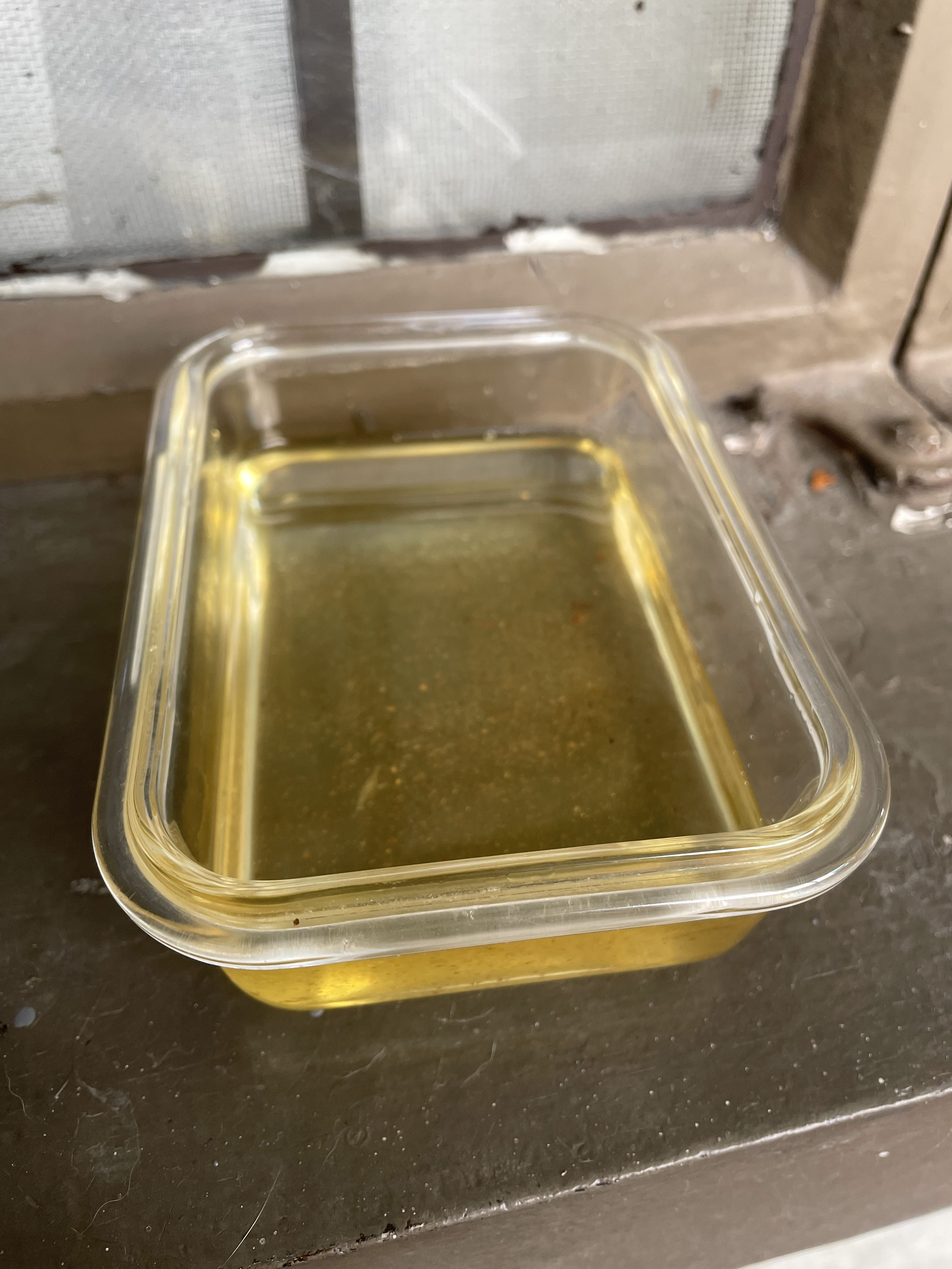reusable: (208, 441, 774, 884)
